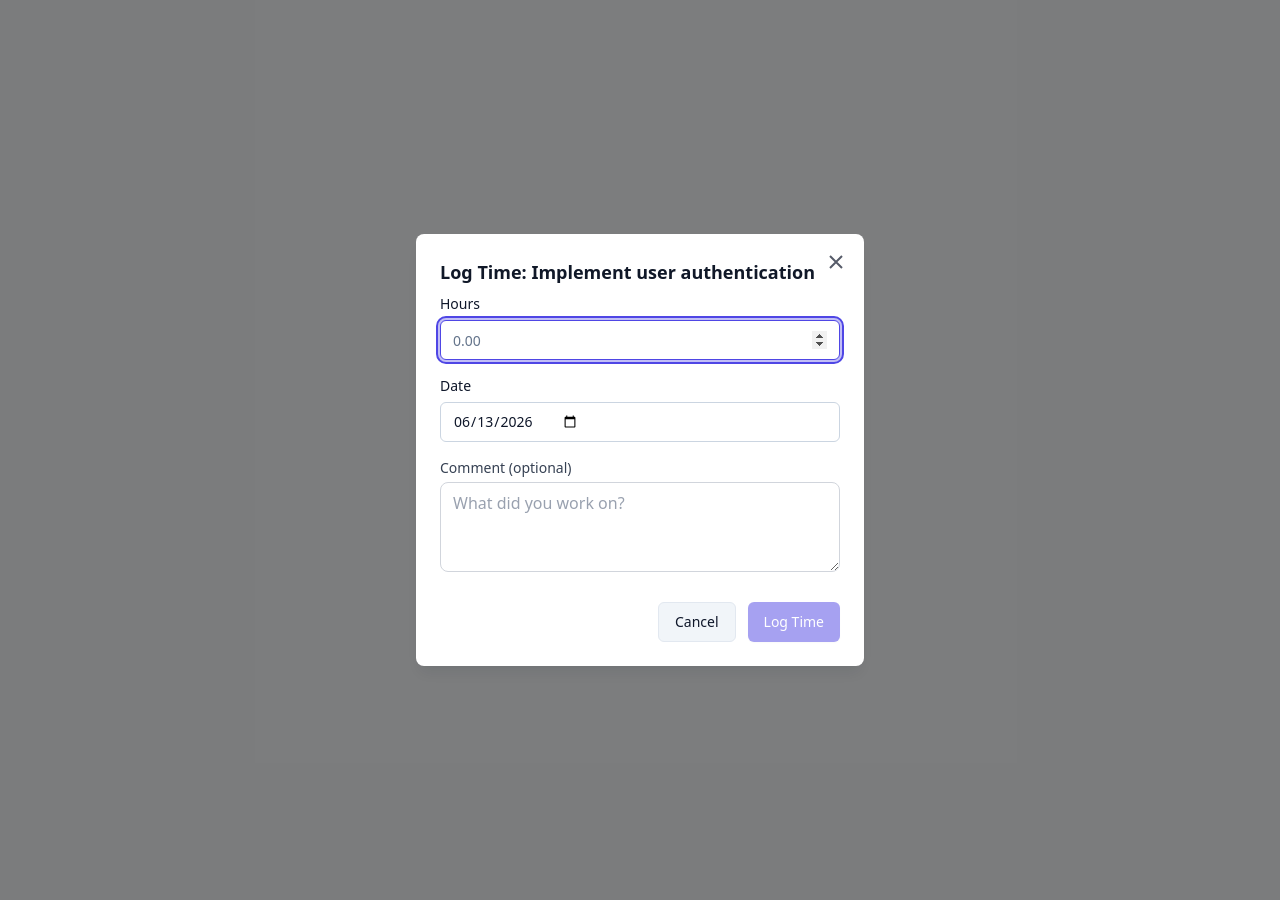
Scenario: LogTimeDialog › submit button is enabled when valid positive hours are entered
In the number field labelled "Hours": (640, 340) [440, 320, 840, 360], type "2.5"
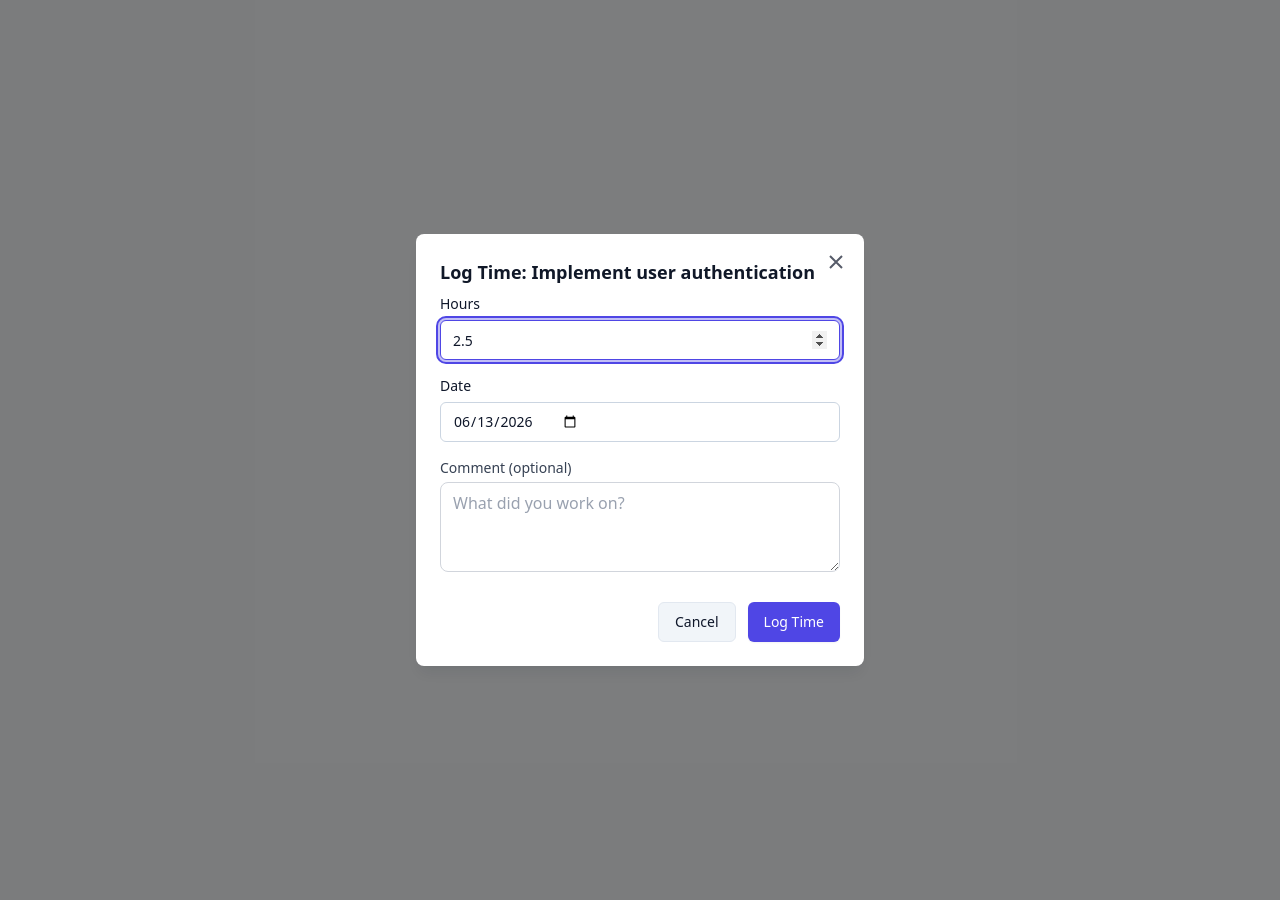
Expected: the button "Log Time" is enabled, [748, 602, 840, 642]
